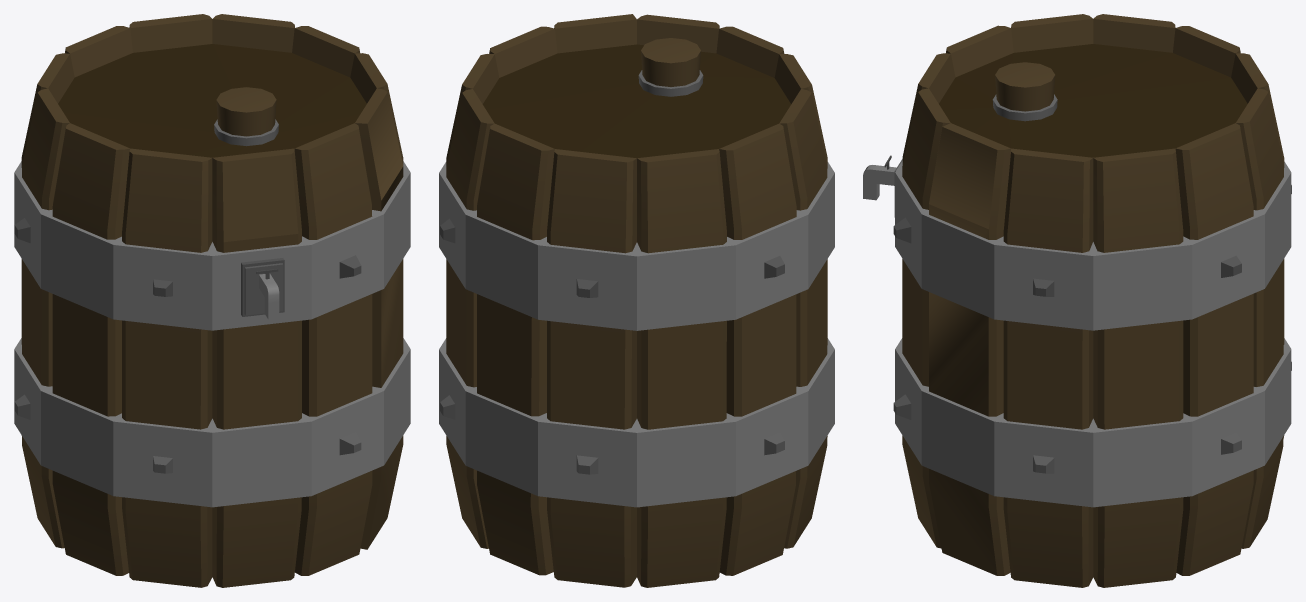
Rendered from barr1.fbx.
The picture shows the model from 3 angles, left to right: view 1: azimuth 30°, elevation 25°; view 2: azimuth 150°, elevation 25°; view 3: azimuth 270°, elevation 25°; orthographic projection.
Parts seen in each view (by area): view 1: pCylinder1, pCylinder3, pCylinder2; view 2: pCylinder1, pCylinder3, pCylinder2; view 3: pCylinder1, pCylinder3, pCylinder2.
Part boxes in pixels (x1=…): pCylinder1: x1=21, y1=14, x2=403, y2=587; pCylinder3: x1=14, y1=338, x2=410, y2=507; pCylinder2: x1=14, y1=161, x2=410, y2=330; pCylinder1: x1=446, y1=14, x2=827, y2=587; pCylinder3: x1=439, y1=338, x2=834, y2=507; pCylinder2: x1=439, y1=162, x2=834, y2=330; pCylinder1: x1=863, y1=14, x2=1284, y2=587; pCylinder3: x1=893, y1=338, x2=1291, y2=507; pCylinder2: x1=893, y1=161, x2=1291, y2=330.
Bounding box in the file's own units: 2.92 × 3.59 × 3.16.
